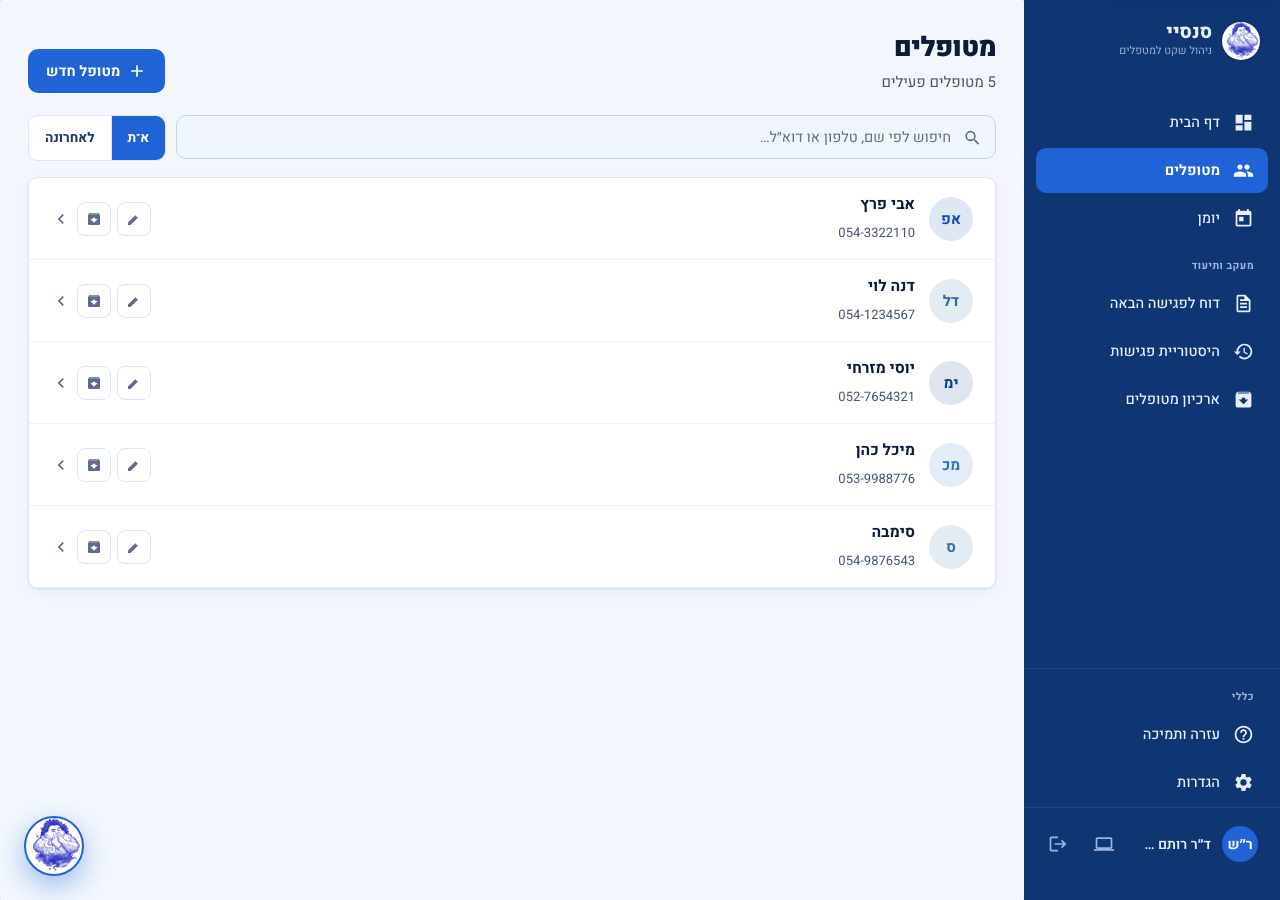
Test: patient archive page › moves a patient to archive from the patients list
Click the 1st button named "העברה לארכיון".
click(94, 218)  # box [77,202,111,236]
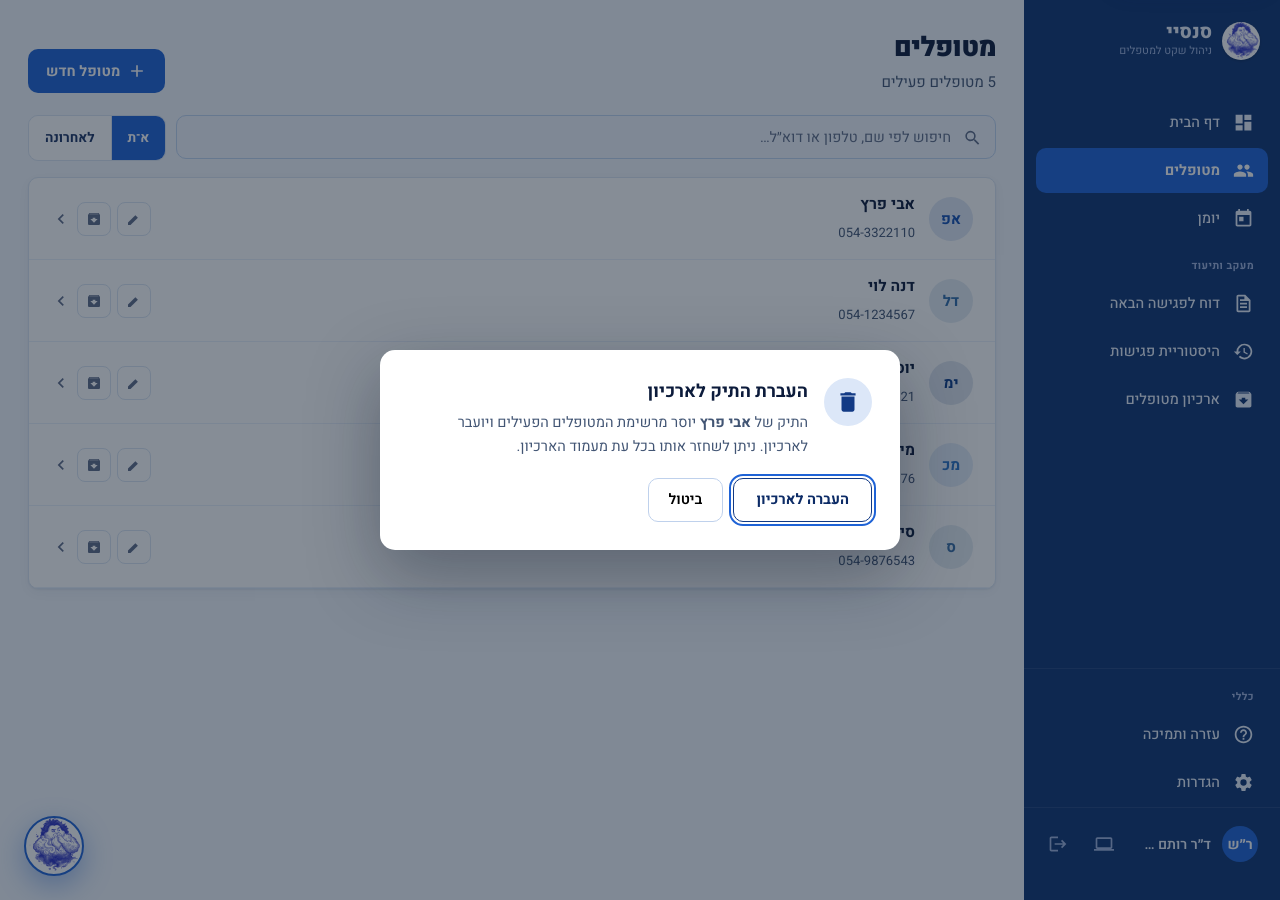
Expected: the dialog is shown, [380,350,900,550]
Click the button "העברה לארכיון".
click(803, 500)  # box [733,478,872,522]
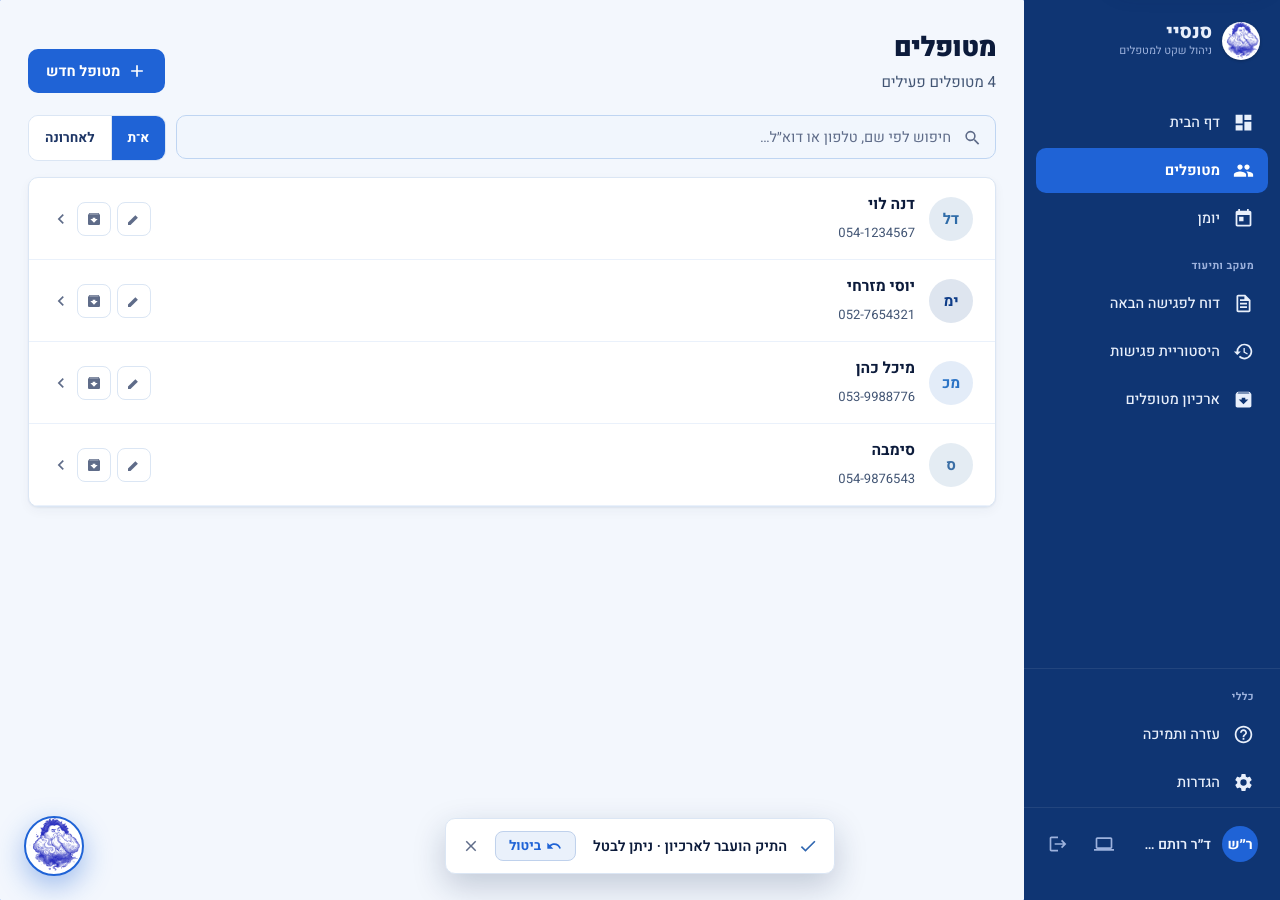
Expected: the text "אבי פרץ" is gone
Click the button "ארכיון מטופלים".
click(1190, 400)  # box [1125,389,1254,410]
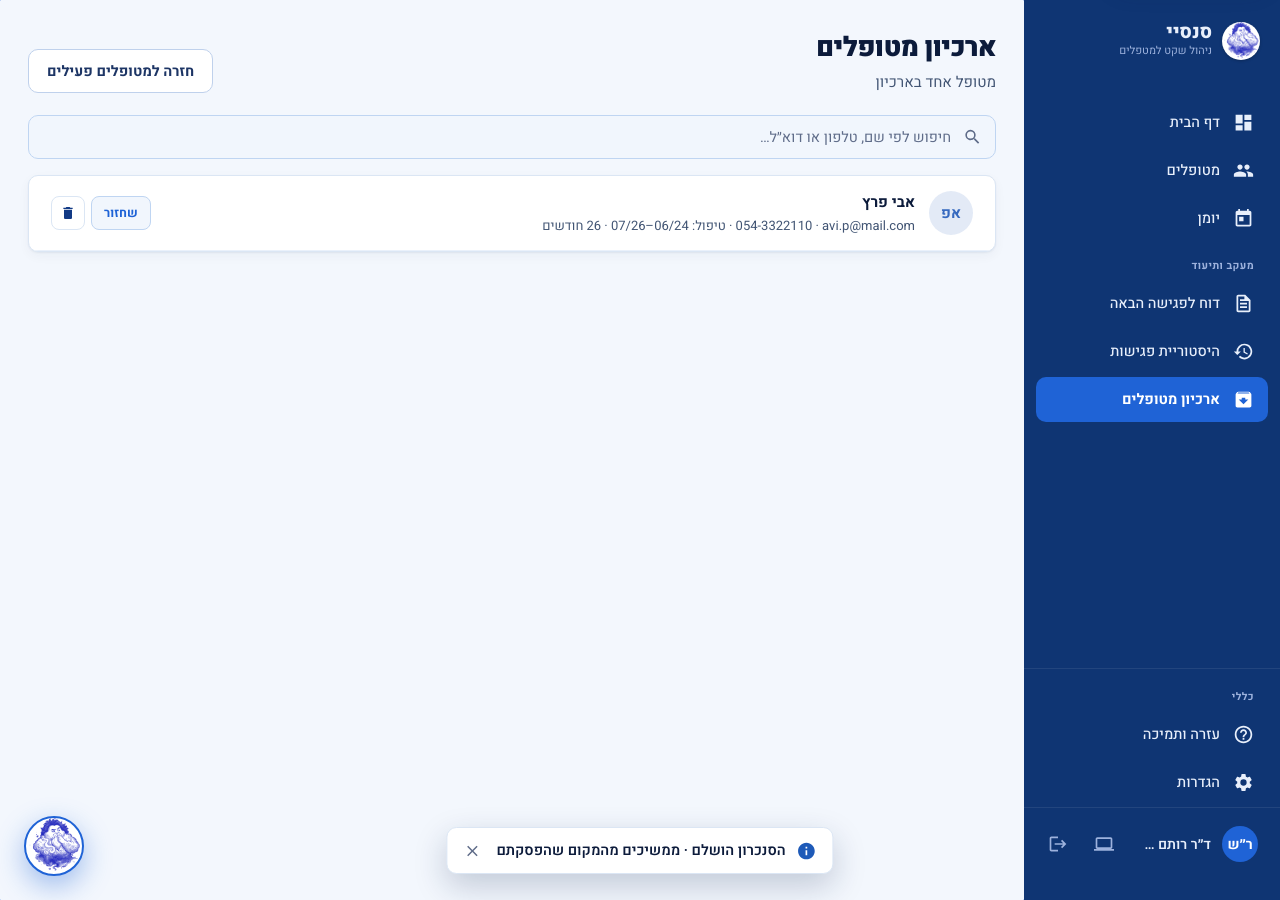
Expected: the text "אבי פרץ" is shown, [862,191,915,213]
